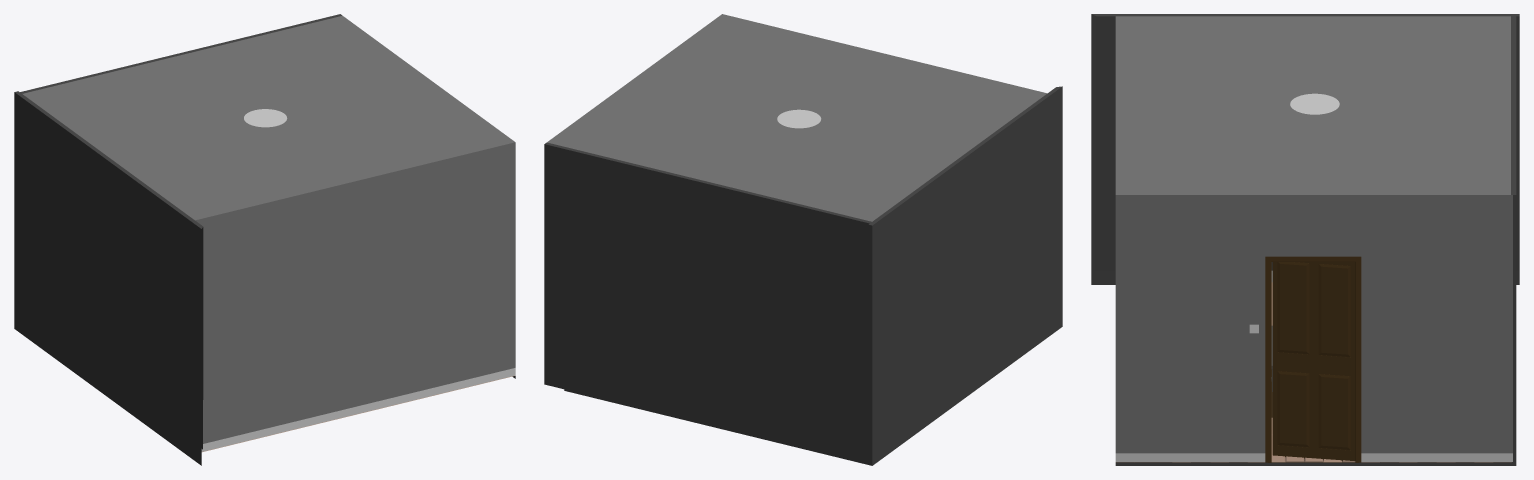
The picture shows the model from 3 angles, left to right: view 1: azimuth 30°, elevation 25°; view 2: azimuth 150°, elevation 25°; view 3: azimuth 270°, elevation 25°; orthographic projection. The views are drawn at different scales.
Visible parts, largest first — view 1: desk:invisible_walls_Cube_029_walls_invis, desk1:walls_Cube_walls, desk:invisible_walls_Cube_029_walls_002, desk:walls_Cube_walls, desk:ceiling_lamp_Circle_017_walls_001; view 2: desk:walls_Cube_walls, desk:invisible_walls_Cube_029_walls_invis, desk1:walls_Cube_walls, desk:ceiling_lamp_Circle_017_walls_001; view 3: desk:invisible_walls_Cube_029_walls_invis, desk:Plane_017_Plane_035_door, desk1:walls_Cube_walls, desk:walls_Cube_walls, desk:door_Plane_034_door, desk:invisible_walls_Cube_029_walls_002, desk:parke_Cube_034_floor_wood, desk:ceiling_lamp_Circle_017_walls_001.
Part boxes in pixels (x1=…): desk:invisible_walls_Cube_029_walls_invis: x1=22, y1=15, x2=515, y2=443; desk1:walls_Cube_walls: x1=14, y1=91, x2=203, y2=465; desk:invisible_walls_Cube_029_walls_002: x1=201, y1=368, x2=515, y2=451; desk:walls_Cube_walls: x1=16, y1=14, x2=515, y2=378; desk:ceiling_lamp_Circle_017_walls_001: x1=244, y1=109, x2=287, y2=127; desk:walls_Cube_walls: x1=544, y1=142, x2=873, y2=461; desk:invisible_walls_Cube_029_walls_invis: x1=547, y1=14, x2=1046, y2=221; desk1:walls_Cube_walls: x1=564, y1=86, x2=1062, y2=465; desk:ceiling_lamp_Circle_017_walls_001: x1=777, y1=109, x2=821, y2=128; desk:invisible_walls_Cube_029_walls_invis: x1=1115, y1=16, x2=1512, y2=453; desk:Plane_017_Plane_035_door: x1=1272, y1=262, x2=1355, y2=461; desk1:walls_Cube_walls: x1=1091, y1=14, x2=1519, y2=284; desk:walls_Cube_walls: x1=1115, y1=14, x2=1516, y2=465; desk:door_Plane_034_door: x1=1265, y1=256, x2=1361, y2=462; desk:invisible_walls_Cube_029_walls_002: x1=1115, y1=453, x2=1512, y2=461; desk:parke_Cube_034_floor_wood: x1=1116, y1=282, x2=1511, y2=462; desk:ceiling_lamp_Circle_017_walls_001: x1=1290, y1=93, x2=1339, y2=114.
Size of the model in its own units: 10.6 by 7.39 by 10.59.
